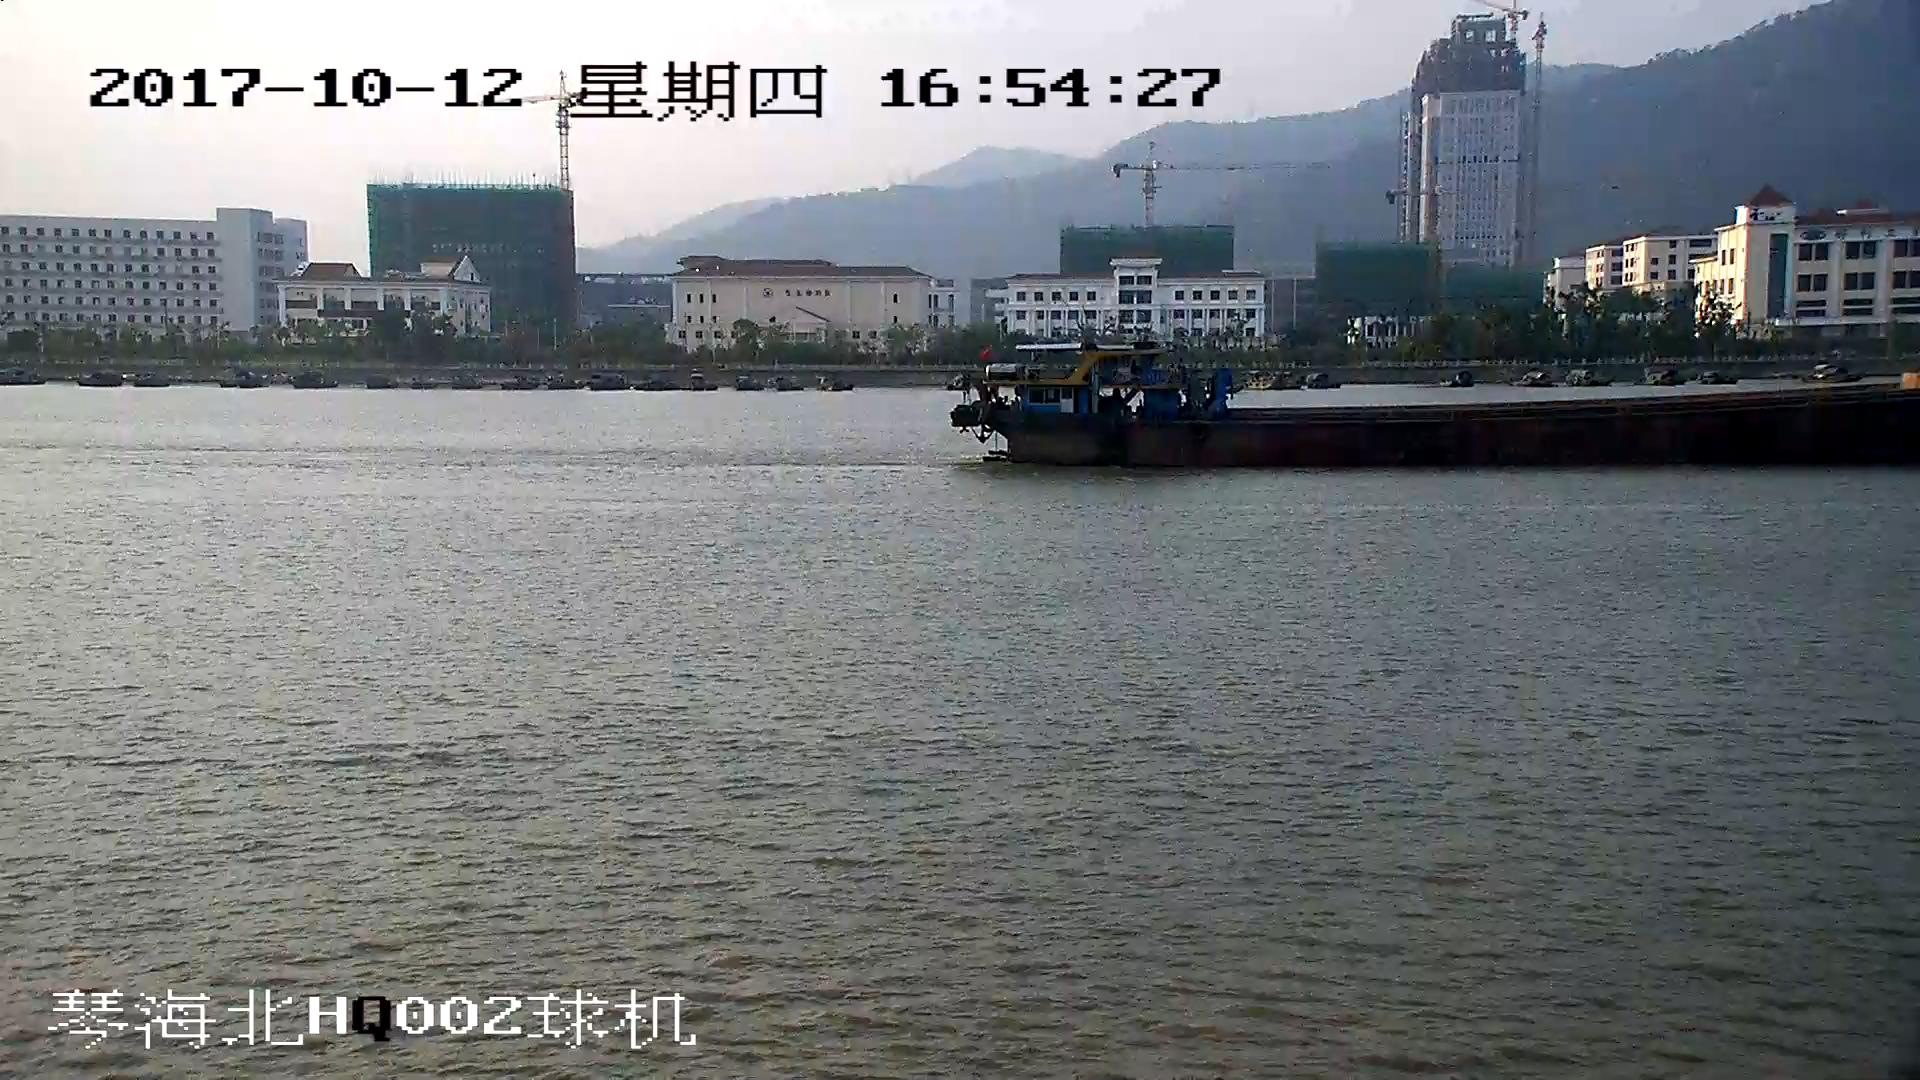bulk cargo carrier: (952, 344, 1920, 473)
